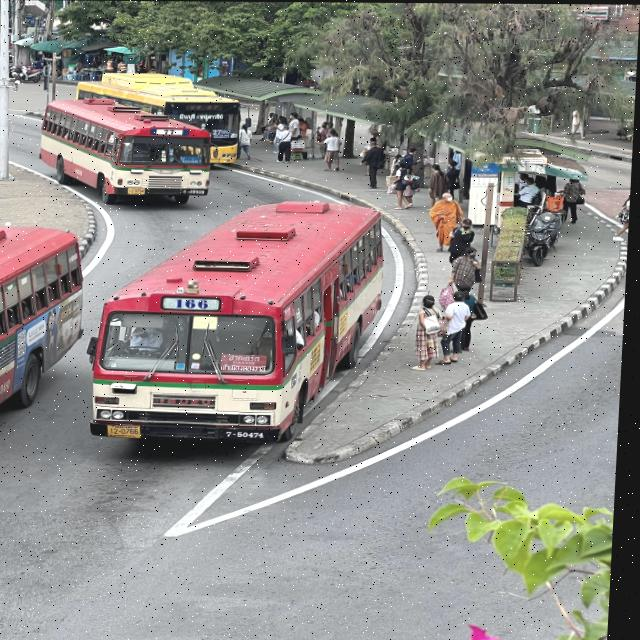BMTA-bus: (94, 198, 394, 443), (0, 223, 92, 430), (38, 98, 216, 201)
Bus-Line-Number: (165, 296, 224, 312), (151, 128, 190, 136)
Destination-Sign-Extra-Bus: (225, 354, 271, 372)
Destination-Sign-Normal: (182, 156, 204, 164)
